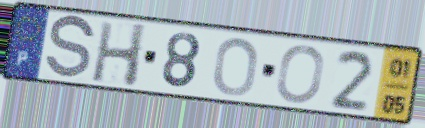2: (330, 49, 376, 112)
8: (160, 31, 203, 90)
H: (89, 20, 150, 90)
O: (274, 43, 328, 105), (211, 36, 261, 98)
S: (42, 13, 98, 82)
